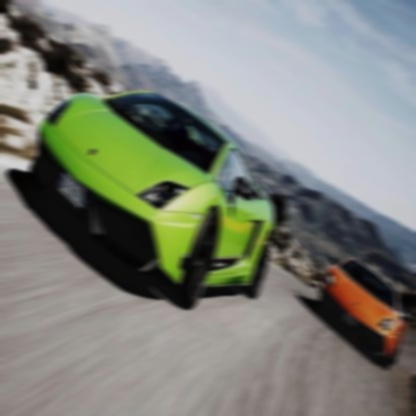Vehicle: (28, 91, 273, 309)
